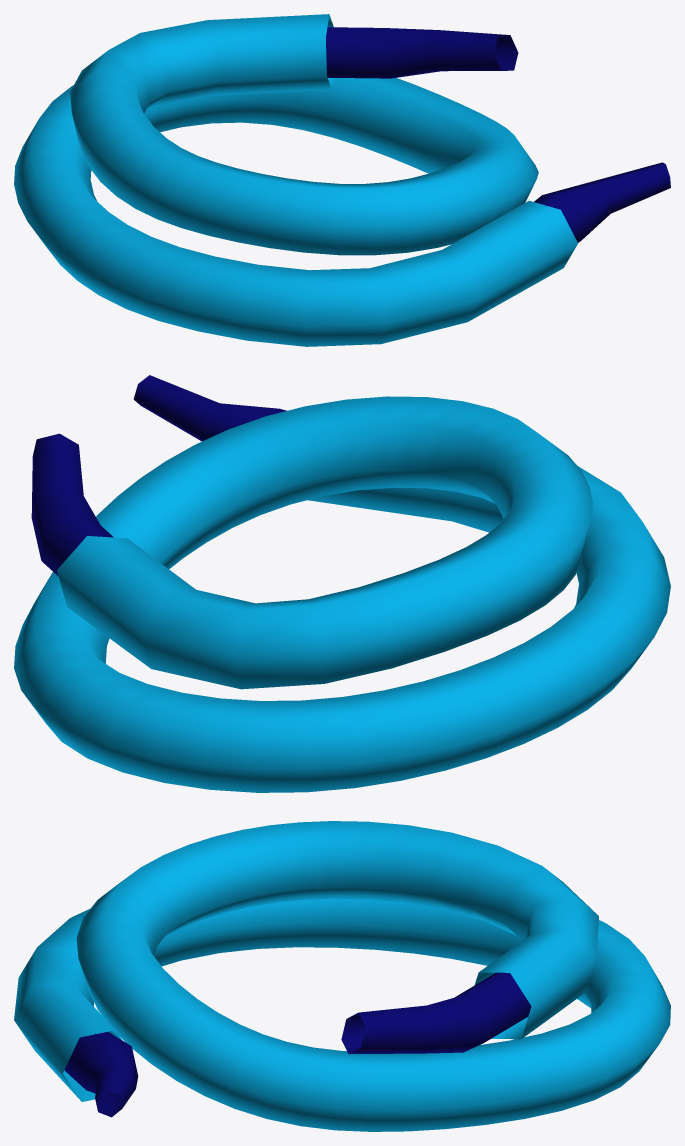
Rendered from Cable_4.fbx.
3 renders of one model, top to bottom at view 1: azimuth 30°, elevation 25°; view 2: azimuth 150°, elevation 25°; view 3: azimuth 270°, elevation 25°, orthographic. The views are drawn at different scales.
Parts seen in each view (by area): view 1: NurbsPath.058; view 2: NurbsPath.058; view 3: NurbsPath.058.
Part boxes in pixels (<box>): NurbsPath.058: <box>14,14,670,346</box>; NurbsPath.058: <box>14,375,670,792</box>; NurbsPath.058: <box>14,821,670,1131</box>.
Size of the model in its own units: 2.1 by 0.5447 by 2.3.
